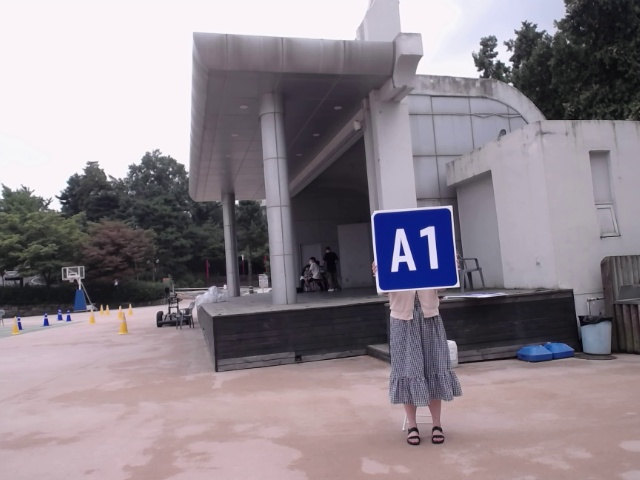delivery_a1: (371, 207, 458, 291)
